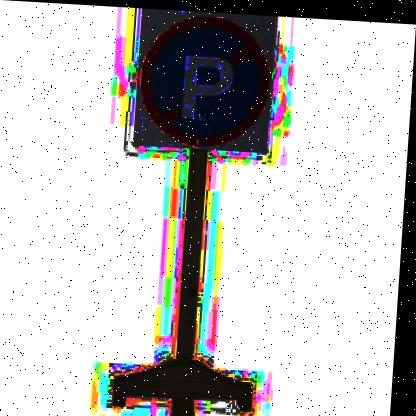No parking: (133, 16, 276, 153)
